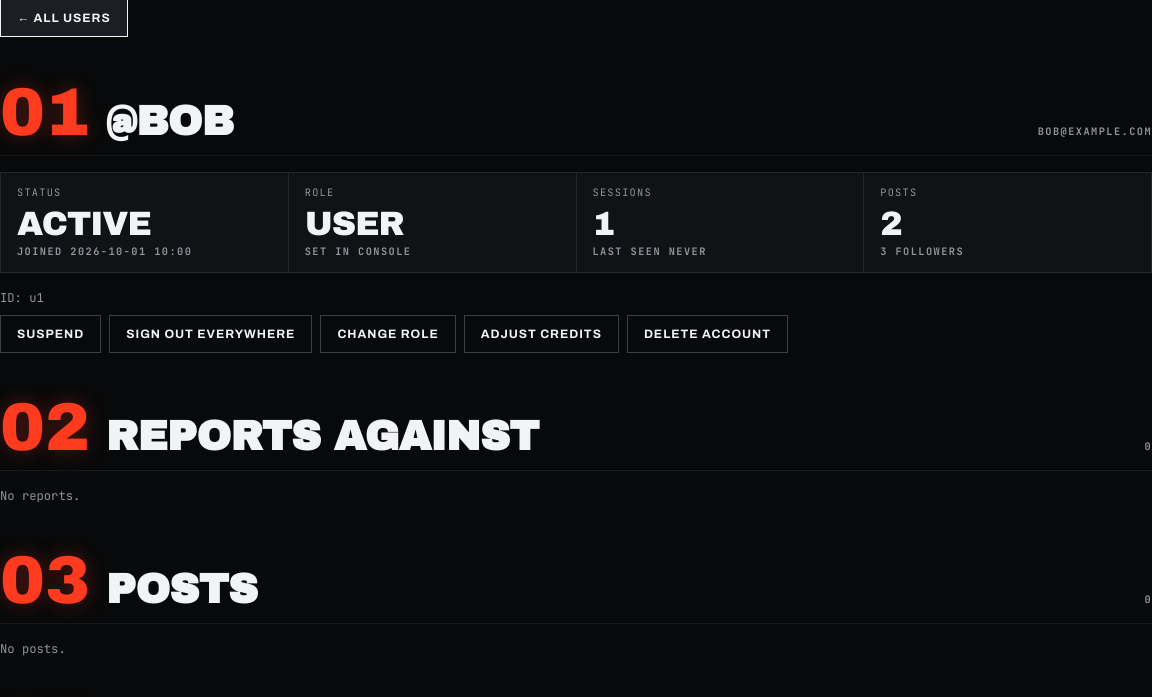
it: UserDetail › keeps delete disabled until the username is typed
The image size is (1152, 697).
Expected: the text "DELETE ACCOUNT" is shown, [644,328,771,340]
Click the button "DELETE ACCOUNT" at (708, 334), box [627,315,788,353]
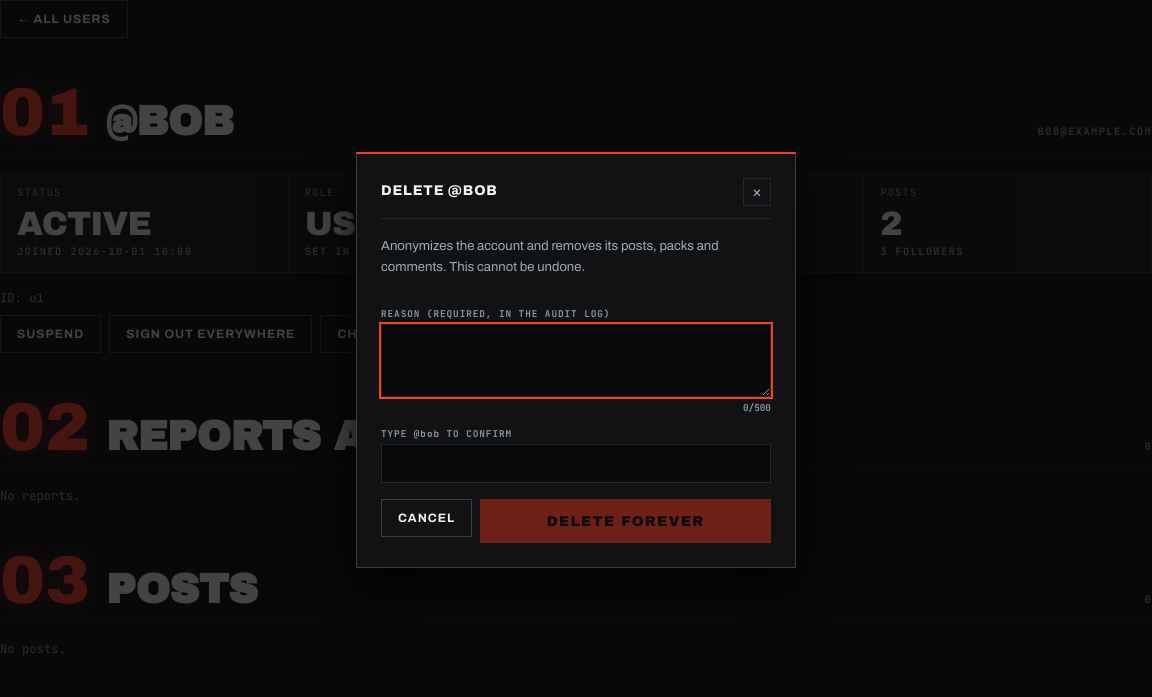
Type "test reason" into the text box labelled "REASON" at (576, 361), box [381,324,771,397]
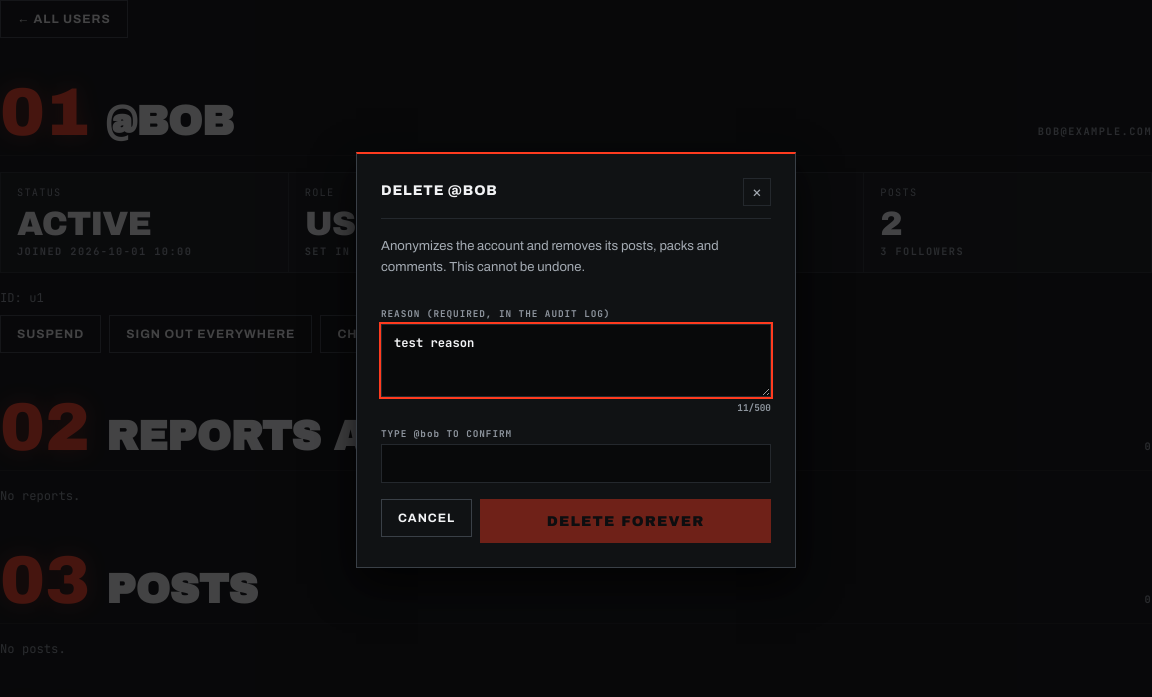
Result: the button "DELETE FOREVER" is disabled at [480,499,771,543]
Type "@BOB" into the field named "Confirm username" at (576, 464), box [381,444,771,483]
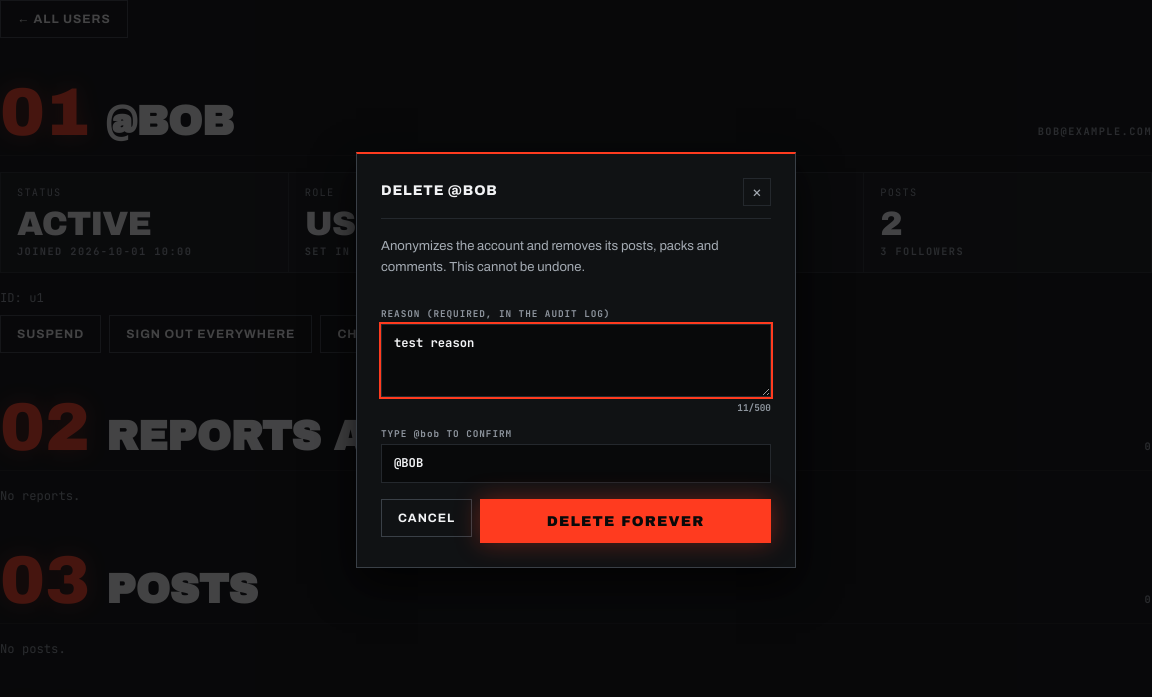
Result: the button "DELETE FOREVER" is enabled at [480,499,771,543]
